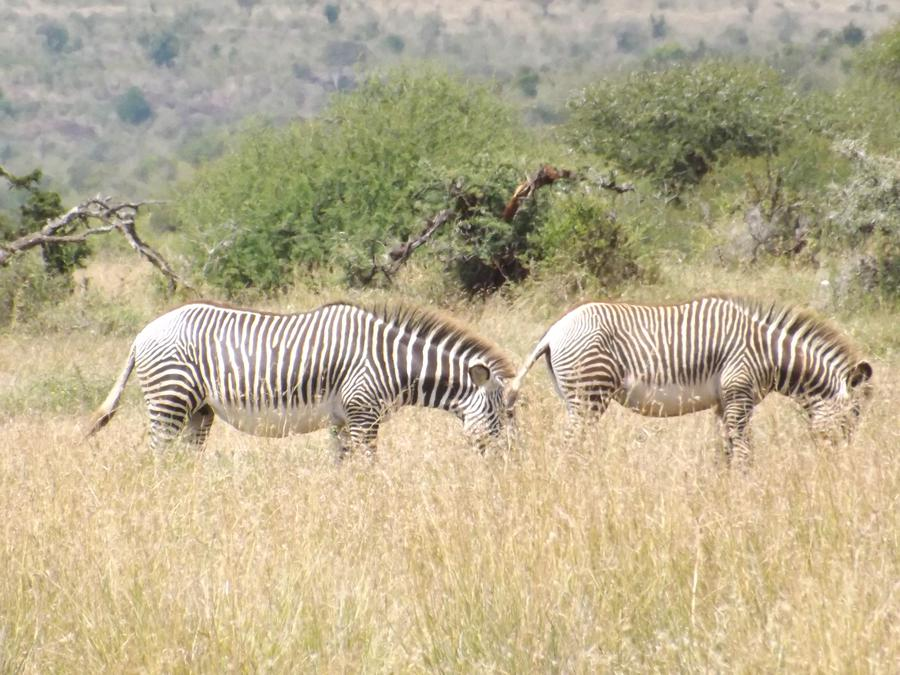zebra_grevys: (123, 285, 384, 426), (533, 294, 761, 412)
